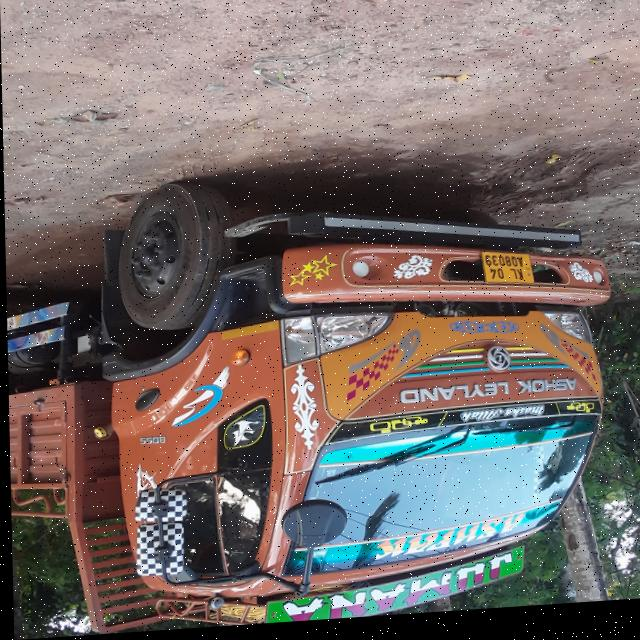plate: (477, 253, 535, 296)
